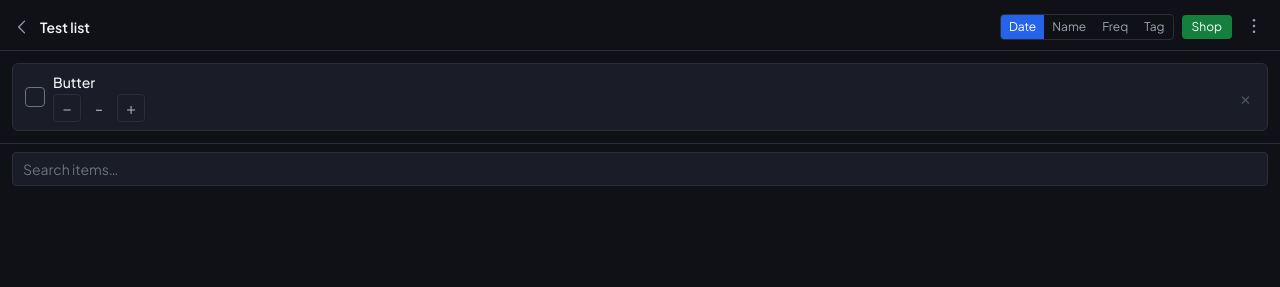
Test: ListScreen — quantity default when adding via search › newly added item card animates in when added from suggestions
Expected: the text "Butter" is shown, x1=53 y1=73 x2=95 y2=91
Click the button named "remove from list" at (1246, 97), box x1=1236 y1=84 x2=1255 y2=110
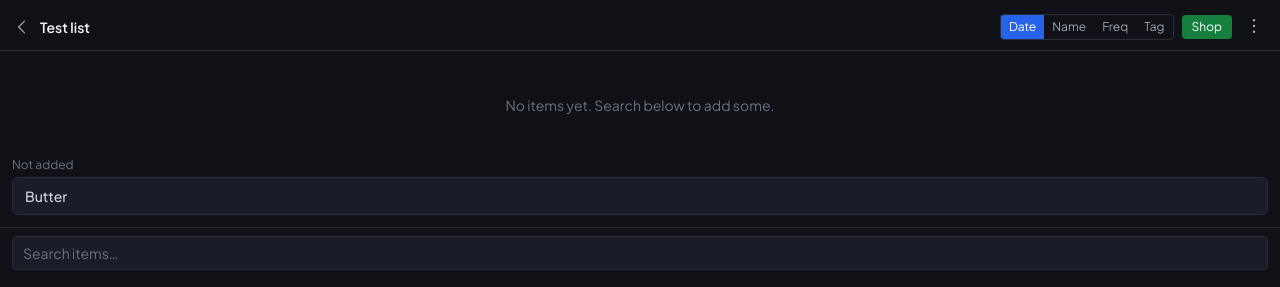
Click the button "Butter" at (46, 196), box x1=12 y1=177 x2=1268 y2=215
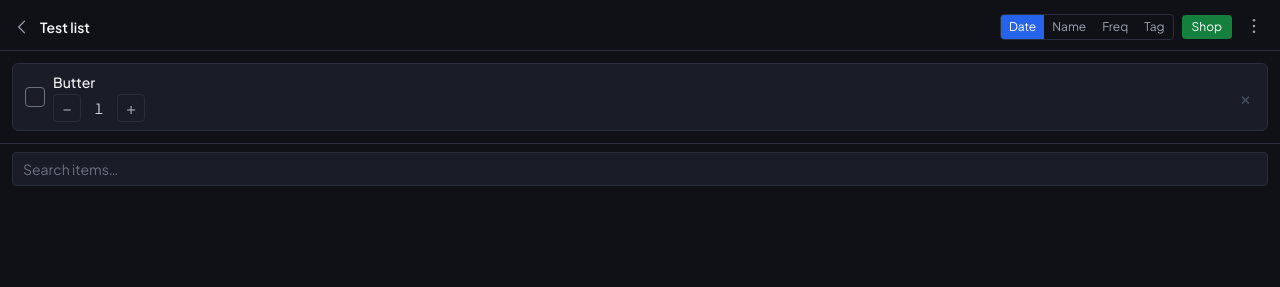
Expected: the element showing "Butter − 1 + ×" is shown, x1=12 y1=63 x2=1268 y2=131
